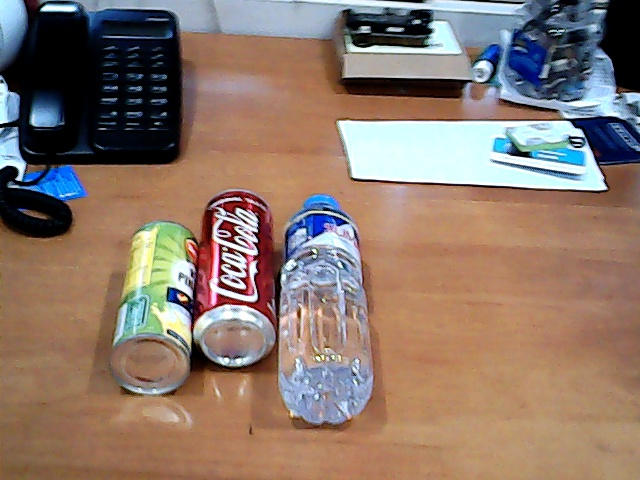Cola: (189, 176, 288, 383)
Pine Juice: (95, 210, 204, 407)
Summit Water: (271, 157, 393, 442)
